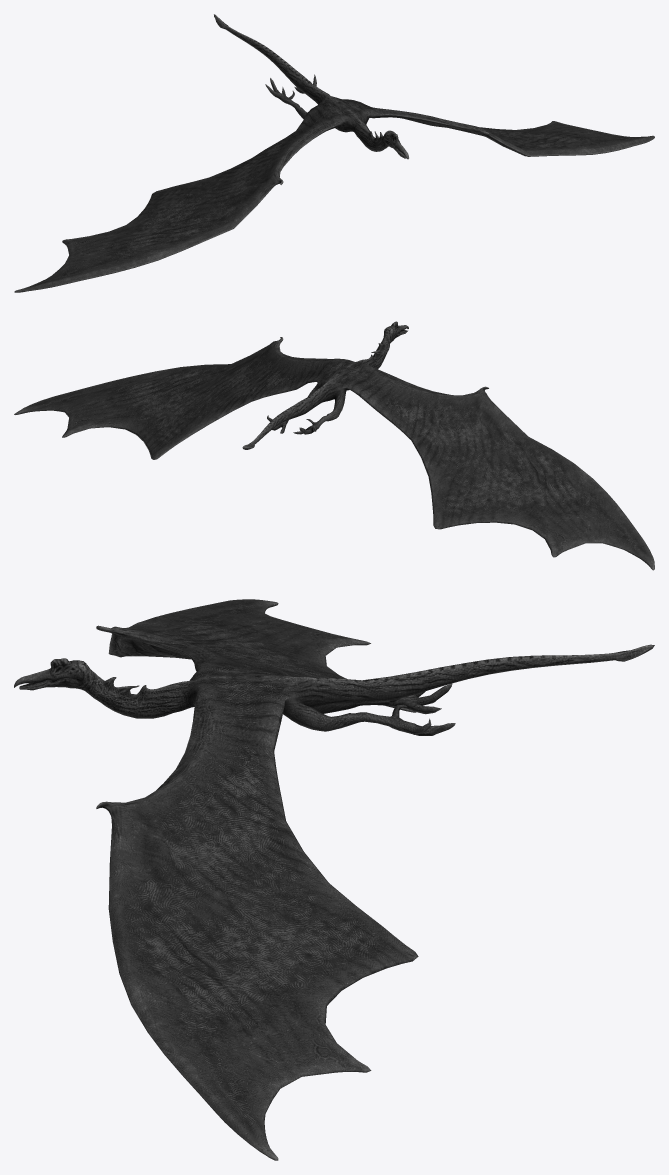
File: Fellbeast_FlyAnim_21.obj
3 views of the same model, one above another, from view 1: azimuth 30°, elevation 25°; view 2: azimuth 150°, elevation 25°; view 3: azimuth 270°, elevation 25° (orthographic). The views are drawn at different scales.
Parts seen in each view (by area): view 1: Fellbeast; view 2: Fellbeast; view 3: Fellbeast.
Boxes of the visible parts, box(x1,y1,x2,y2) form: Fellbeast: box(14, 14, 654, 292); Fellbeast: box(14, 321, 654, 570); Fellbeast: box(14, 599, 654, 1160).
Bounding box in the file's own units: 8.99 × 1.71 × 4.38.
